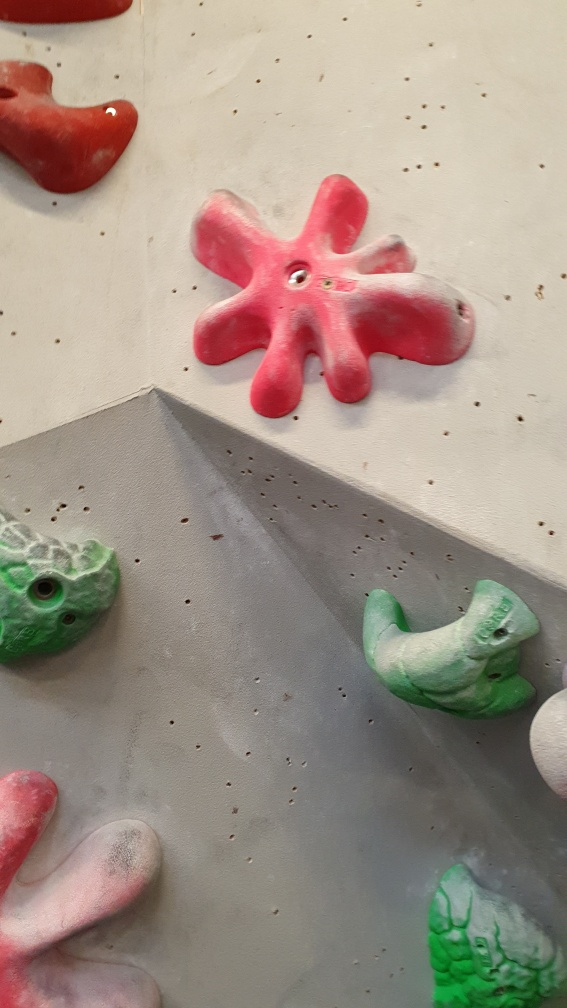Jug: (358, 577, 541, 721), (1, 504, 123, 668), (427, 868, 566, 1003)
Octopus Pinch: (188, 170, 479, 428), (1, 767, 172, 1007)
